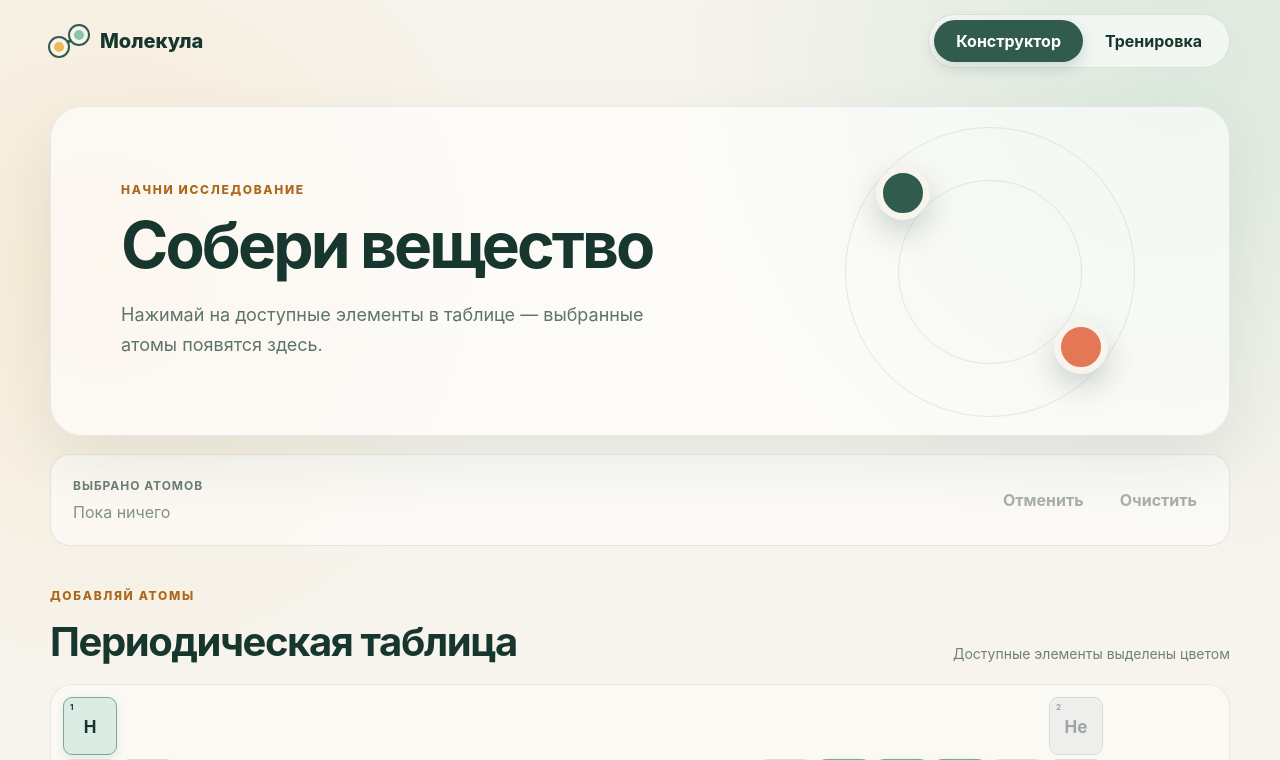
Test case: molecule constructor › keeps the future training destination available
Click the button "Тренировка". click: (1154, 41)
box: x1=1083 y1=20 x2=1224 y2=62
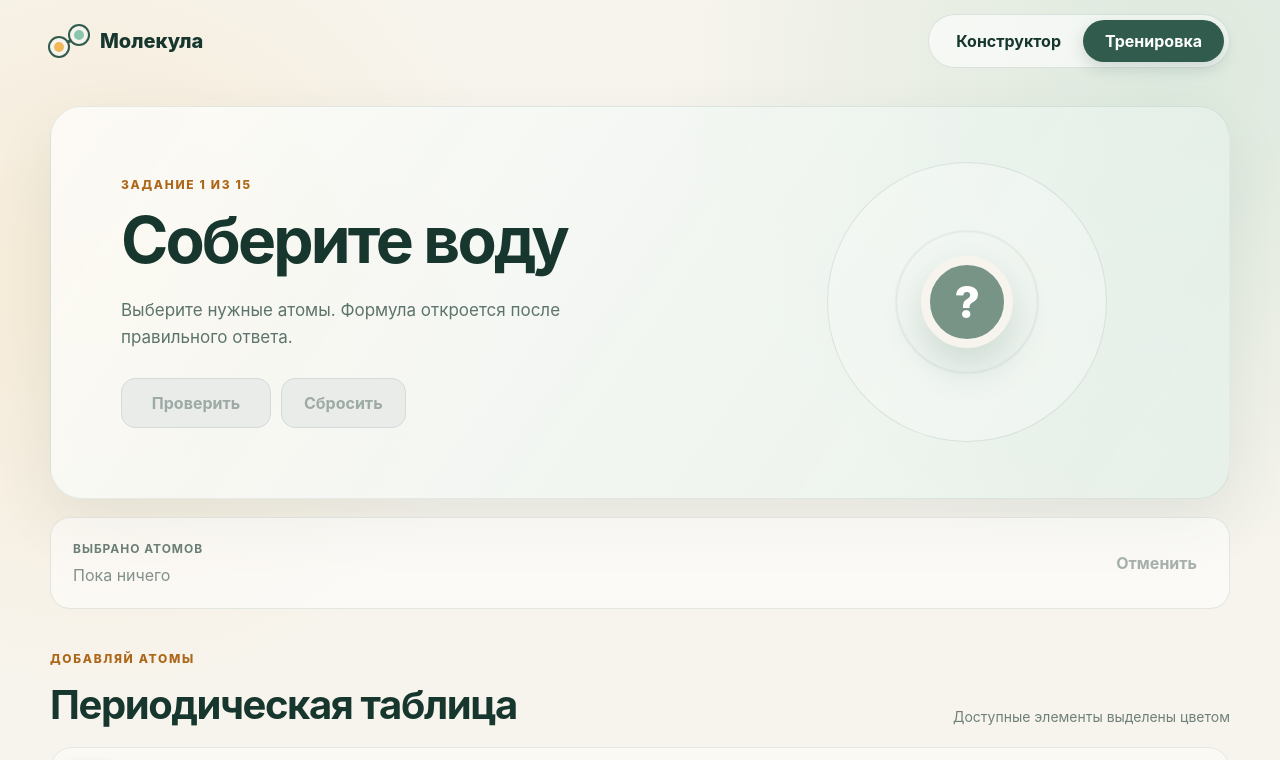
Now the heading "Соберите воду" is shown, box x1=121 y1=206 x2=635 y2=273
